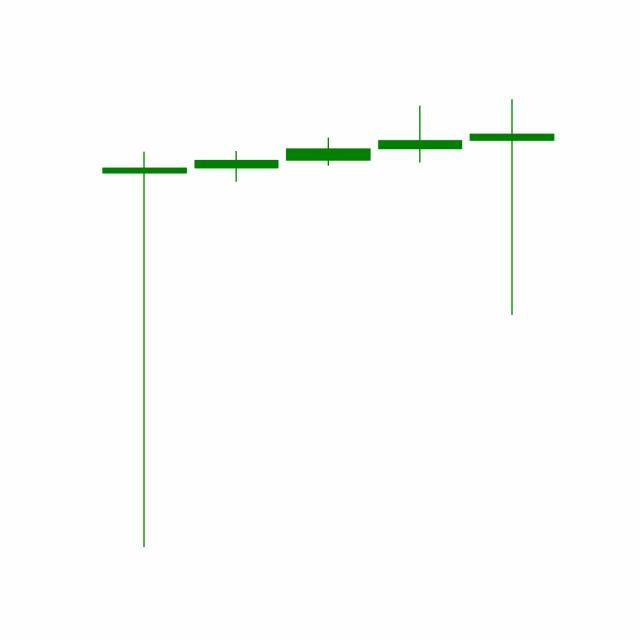Spinning Top: (374, 105, 468, 164)
